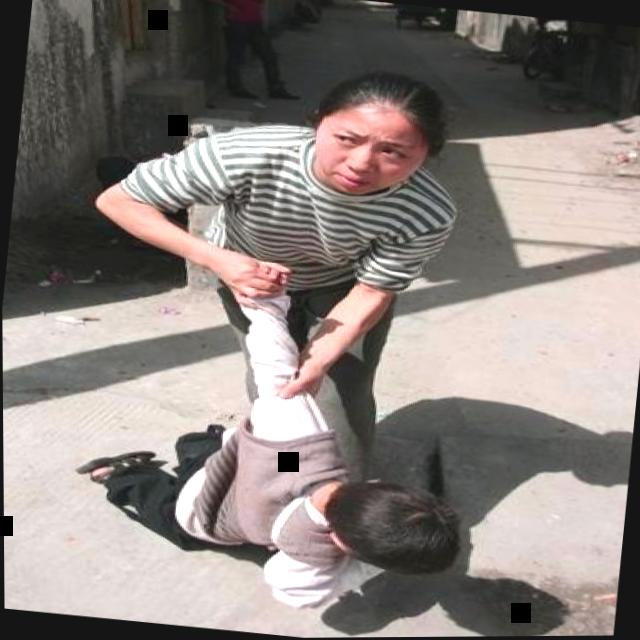Fall-Detected: (45, 240, 634, 640)
